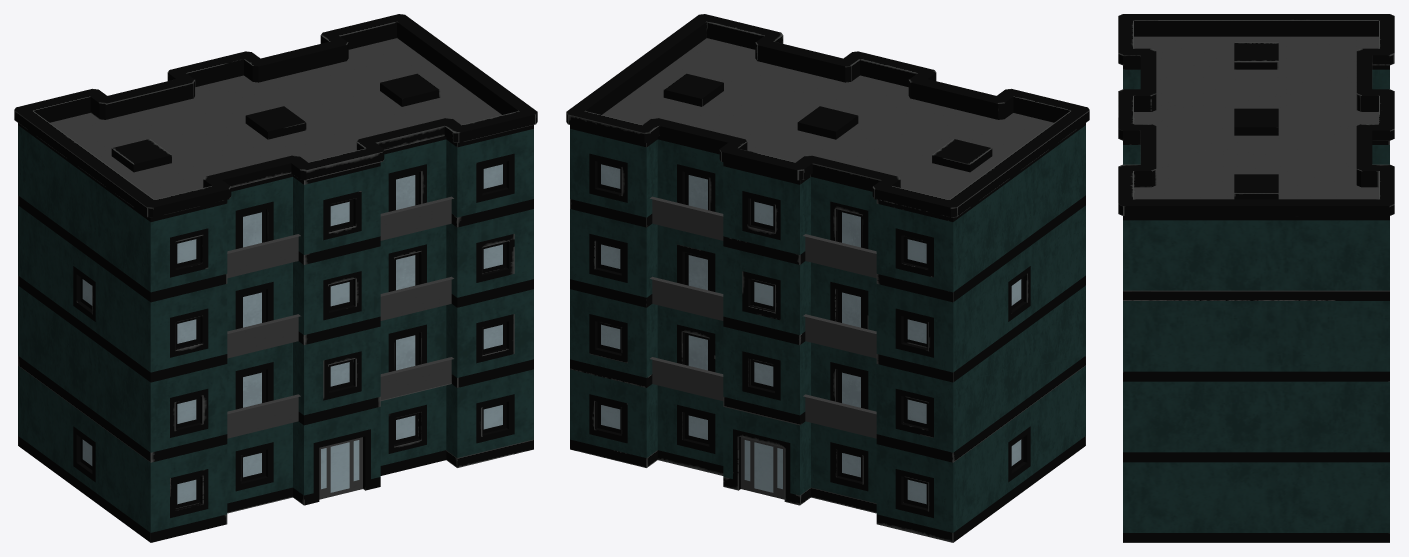
The model's file is large_buildingA1.fbx.
3 views of the same model, side by side, from view 1: azimuth 30°, elevation 25°; view 2: azimuth 150°, elevation 25°; view 3: azimuth 270°, elevation 25° (orthographic).
Visible parts, largest first — view 1: large_buildingA; view 2: large_buildingA; view 3: large_buildingA.
Boxes of the visible parts, x1=… form: large_buildingA: x1=14, y1=14, x2=537, y2=542; large_buildingA: x1=566, y1=14, x2=1089, y2=542; large_buildingA: x1=1118, y1=14, x2=1394, y2=542.
Size of the model in its own units: 204 by 168 by 124.
